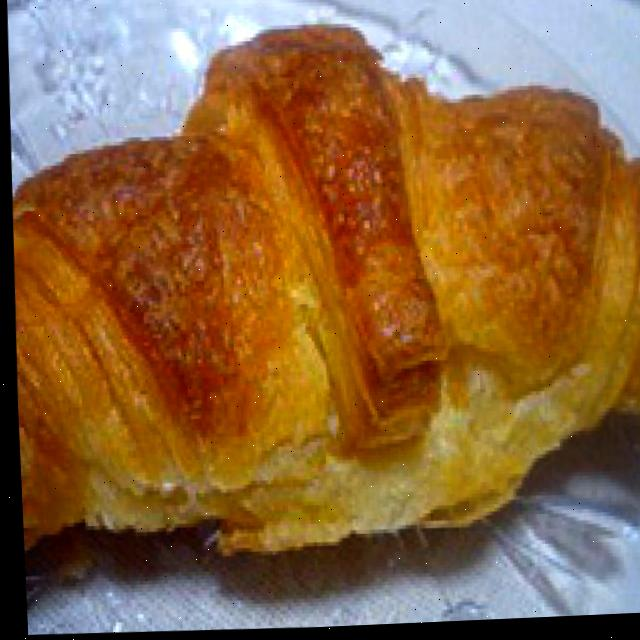面包点心: (1, 0, 640, 582)
